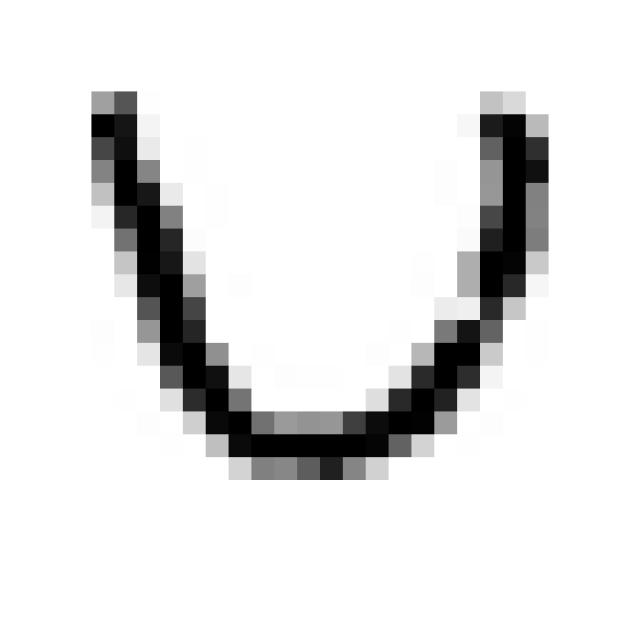7 -seven-: (61, 64, 568, 488)
